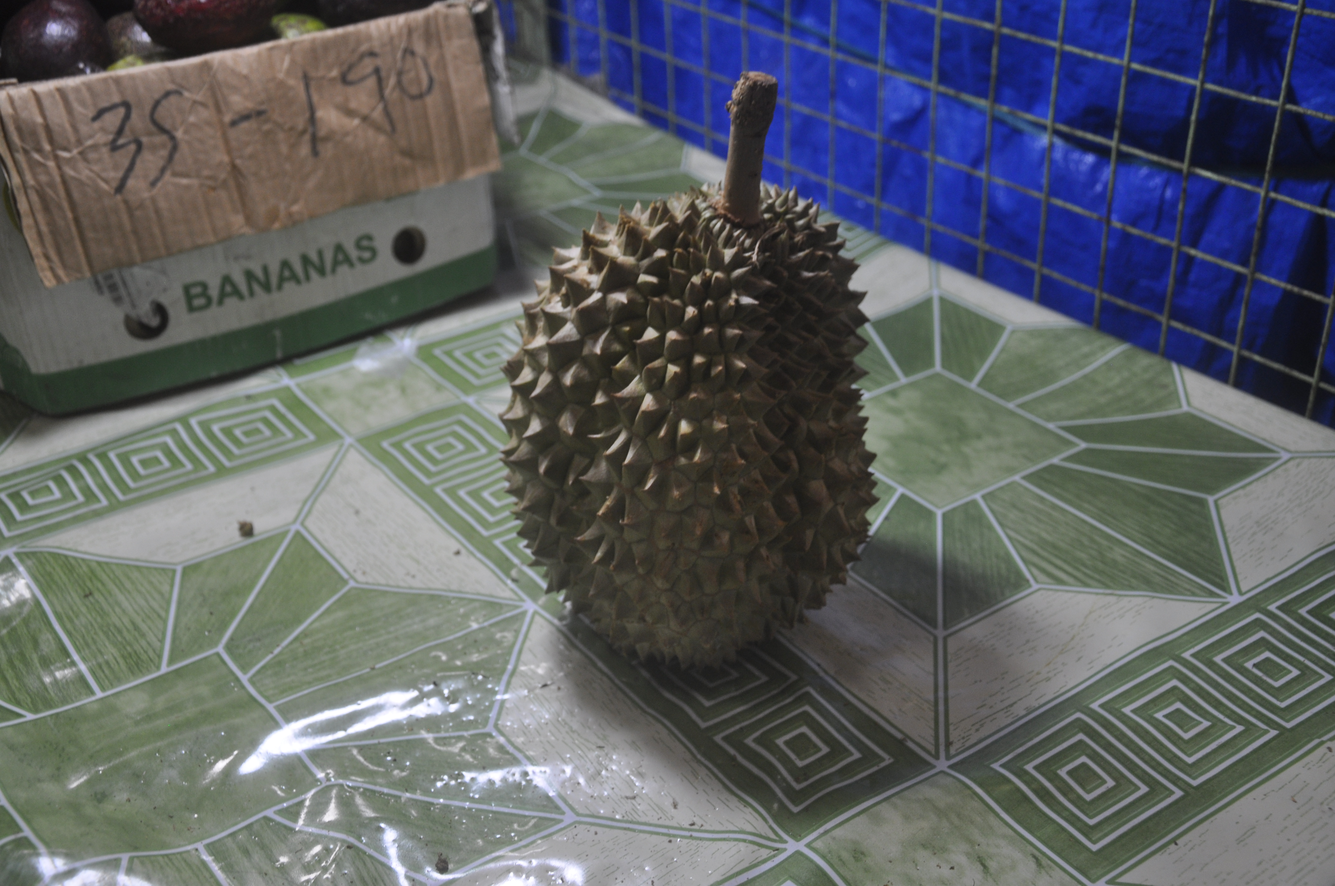mature: (500, 72, 881, 669)
